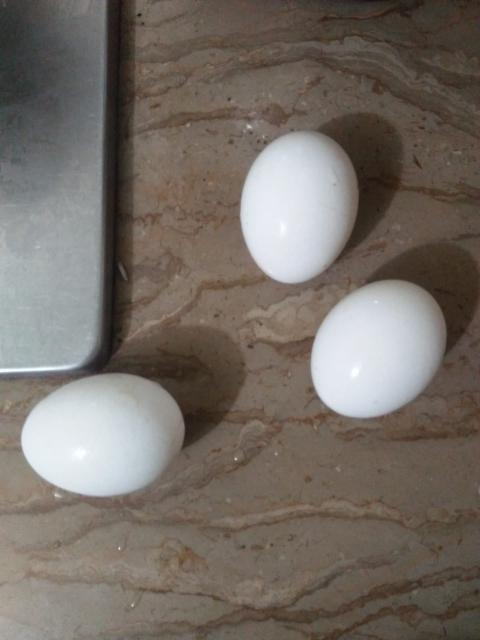Sano: (20, 374, 188, 497), (239, 125, 359, 285), (311, 278, 447, 419)
